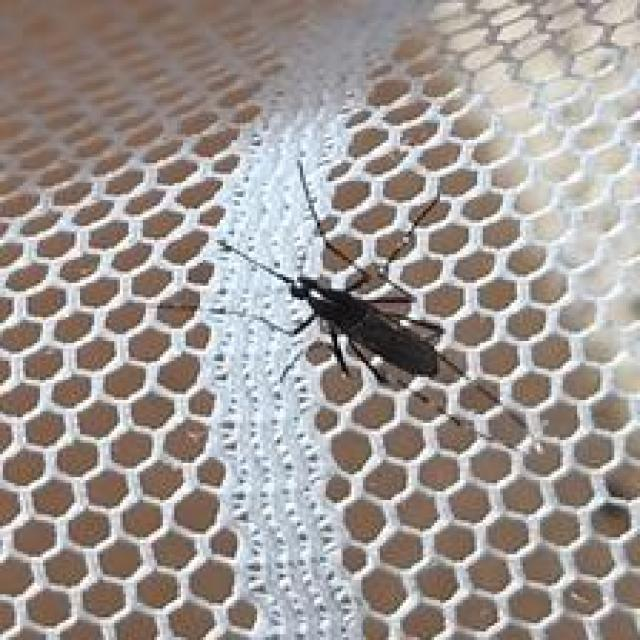Aedes albopictus: (208, 157, 508, 426)
